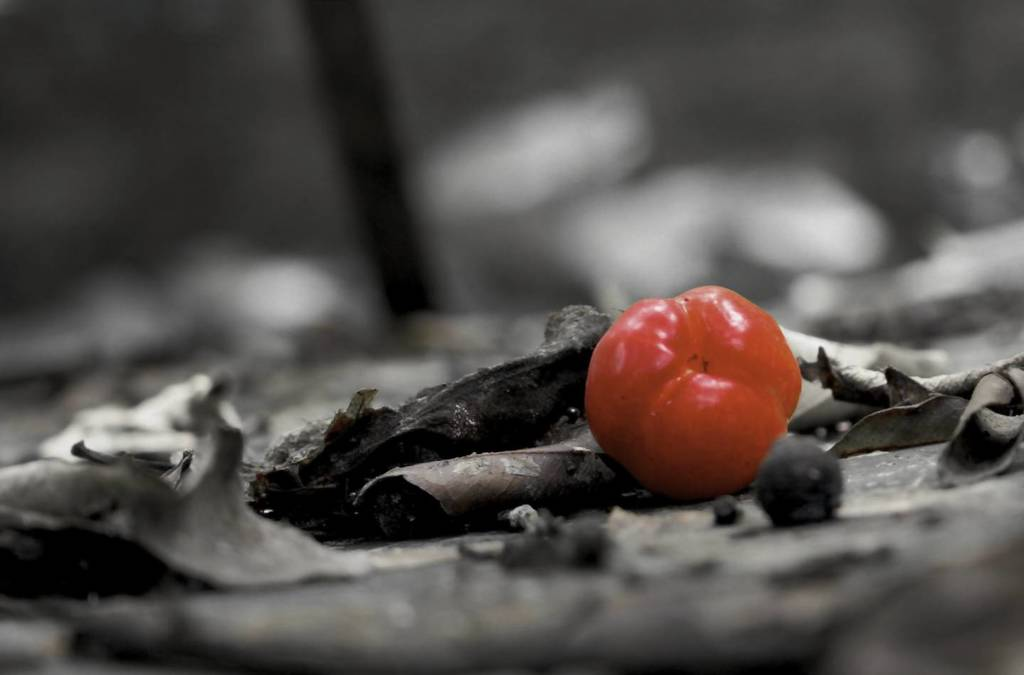Tomato: (576, 285, 812, 512)
